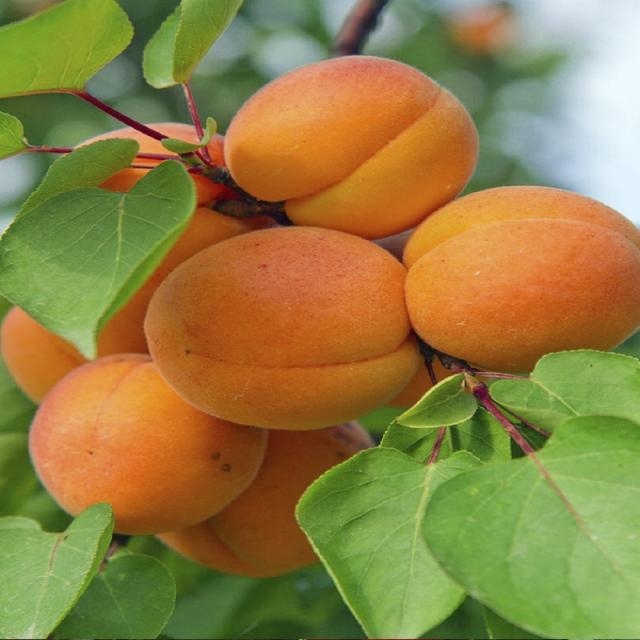Apricot: (146, 222, 422, 430), (0, 211, 270, 405), (224, 59, 478, 232), (410, 181, 640, 367), (38, 349, 261, 524), (154, 422, 372, 578), (75, 119, 231, 205), (452, 4, 507, 47)
Leaf: (461, 421, 640, 640), (9, 140, 176, 332), (0, 509, 134, 640), (0, 0, 130, 121), (128, 0, 242, 92)
